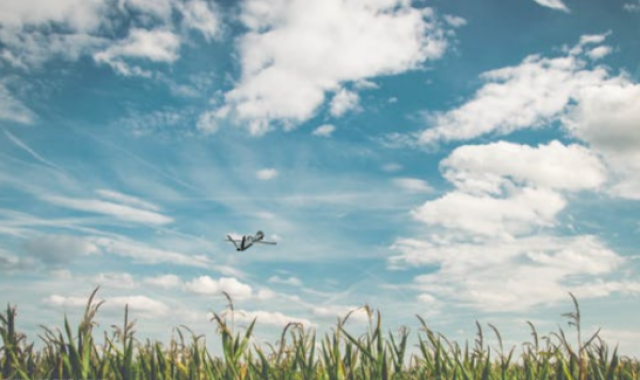military drone: (223, 230, 277, 251)
